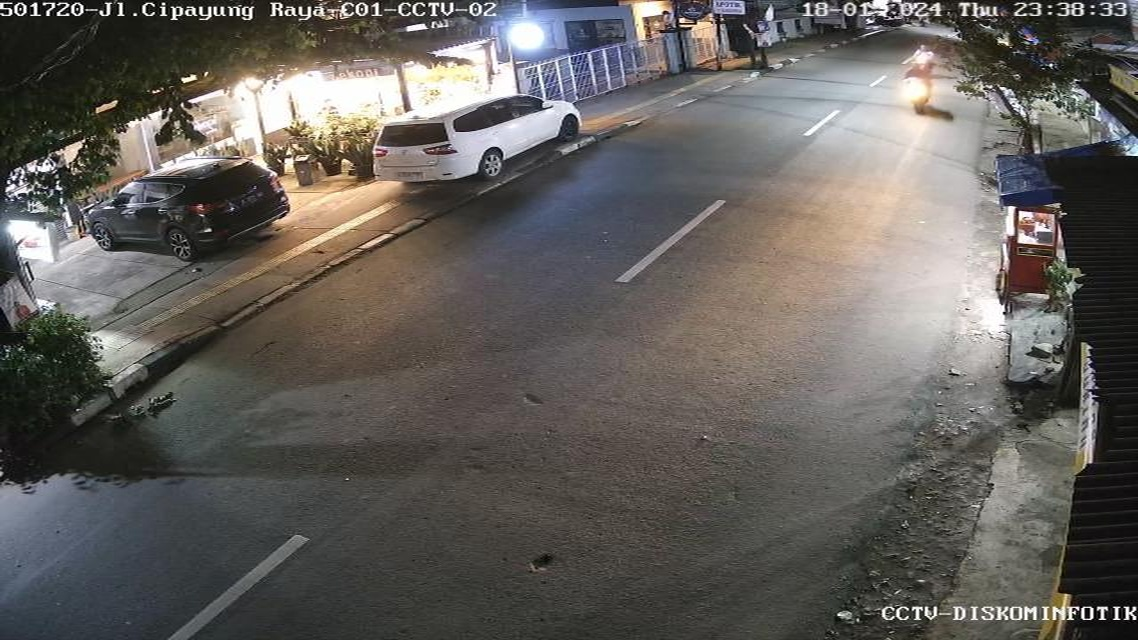Gerobak: (985, 171, 1076, 309)
